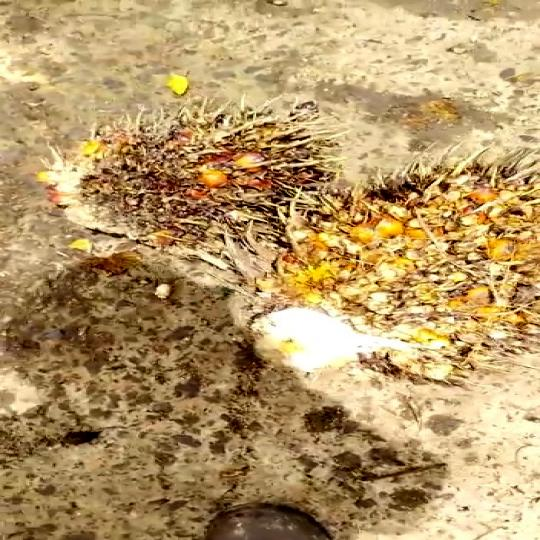terlalu masak: (247, 146, 540, 336), (62, 101, 382, 263)
